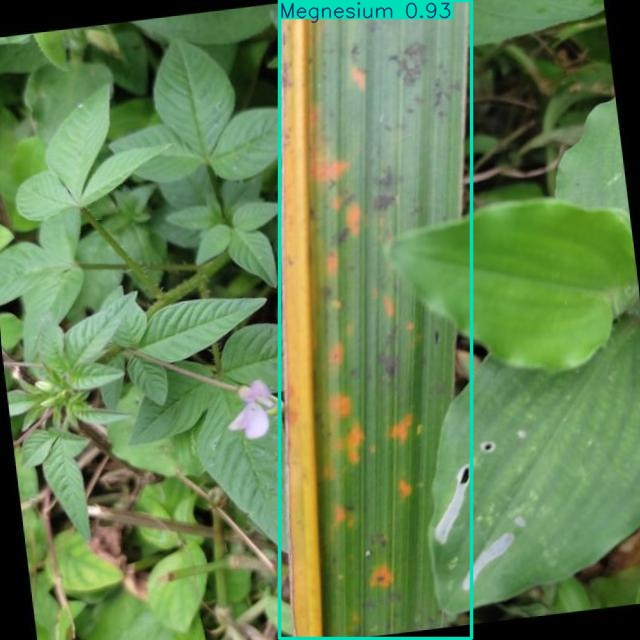Megnesium: (279, 0, 472, 639)
